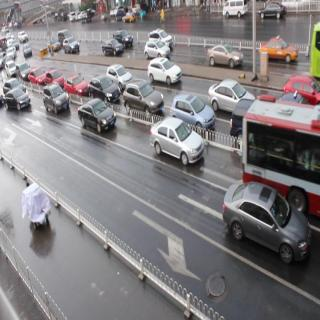BigCar: (239, 95, 320, 216)
Car: (221, 175, 316, 268), (147, 111, 205, 173), (171, 90, 215, 132), (76, 94, 117, 138), (123, 77, 163, 118), (208, 74, 247, 115), (203, 38, 248, 72), (258, 30, 298, 66), (148, 55, 182, 91), (86, 72, 120, 105), (41, 84, 71, 116), (2, 87, 32, 112), (144, 38, 173, 62), (257, 1, 289, 22), (110, 24, 134, 50), (65, 72, 88, 95), (219, 2, 250, 18), (62, 35, 84, 56), (100, 38, 124, 56), (30, 68, 48, 85), (20, 40, 35, 59), (5, 60, 17, 80)
